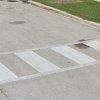crosswalks: (0, 35, 100, 86)
